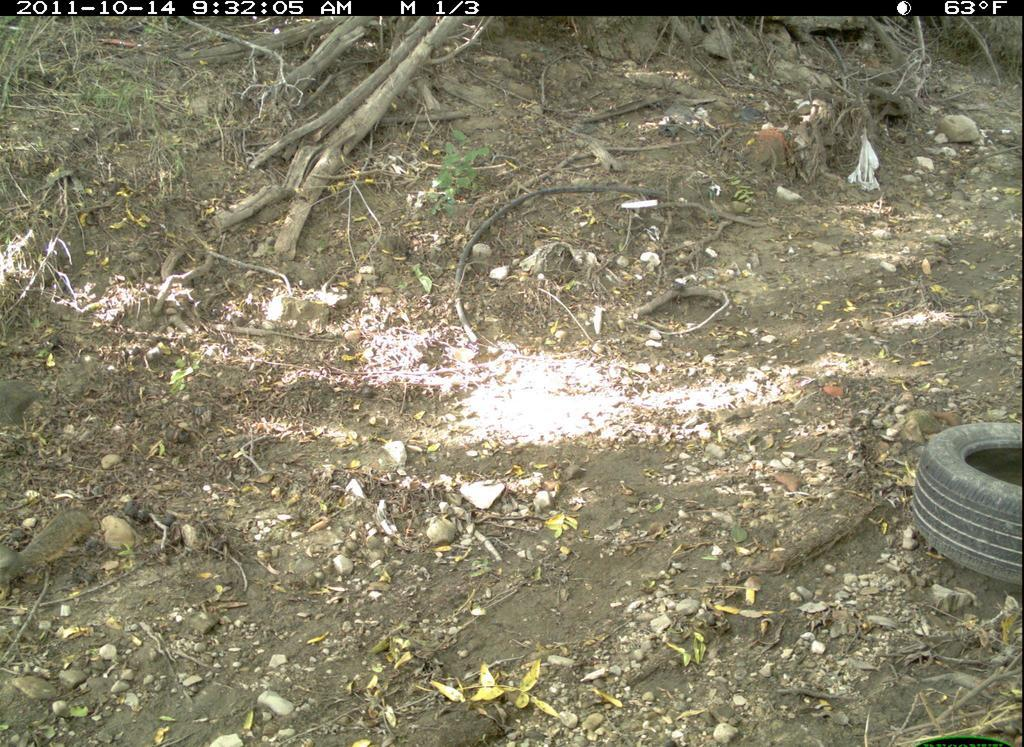squirrel: (1, 497, 100, 600)
